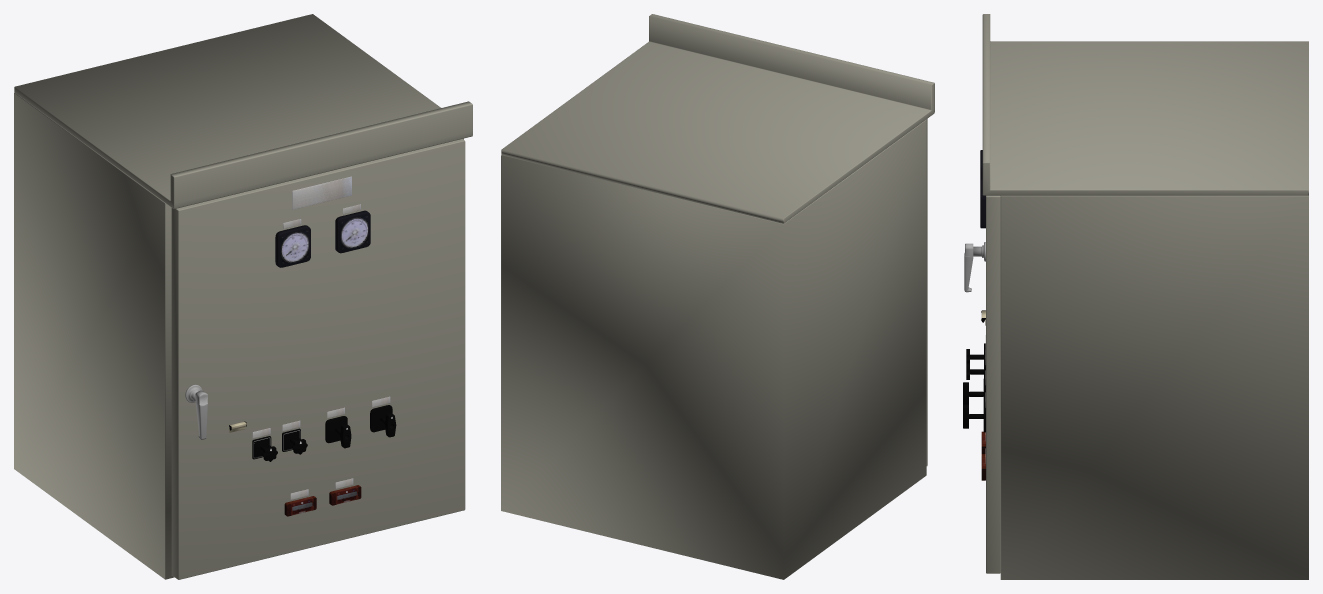
3 renders of one model, left to right at view 1: azimuth 30°, elevation 25°; view 2: azimuth 150°, elevation 25°; view 3: azimuth 270°, elevation 25°, orthographic. The views are drawn at different scales.
Parts seen in each view (by area): view 1: u1_body, u1_door_a, u01A_dia2, u01A_dia1, u01A_np, handle; view 2: u1_body, u1_door_a; view 3: u1_body, u1_door_a, handle.
Boxes of the visible parts, box(x1,y1,x2,y2) form: u1_body: box(14, 14, 472, 579); u1_door_a: box(171, 139, 465, 579); u01A_dia2: box(335, 210, 370, 253); u01A_dia1: box(275, 225, 310, 267); u01A_np: box(292, 176, 351, 209); handle: box(185, 384, 207, 439); u1_body: box(501, 14, 934, 579); u1_door_a: box(926, 119, 927, 465); u1_body: box(982, 14, 1308, 579); u1_door_a: box(986, 195, 1000, 573); handle: box(964, 242, 985, 292).
Bounding box in the file's own units: 0.96 × 1.26 × 0.9424.
Materials: 12 (8 with a texture image).
